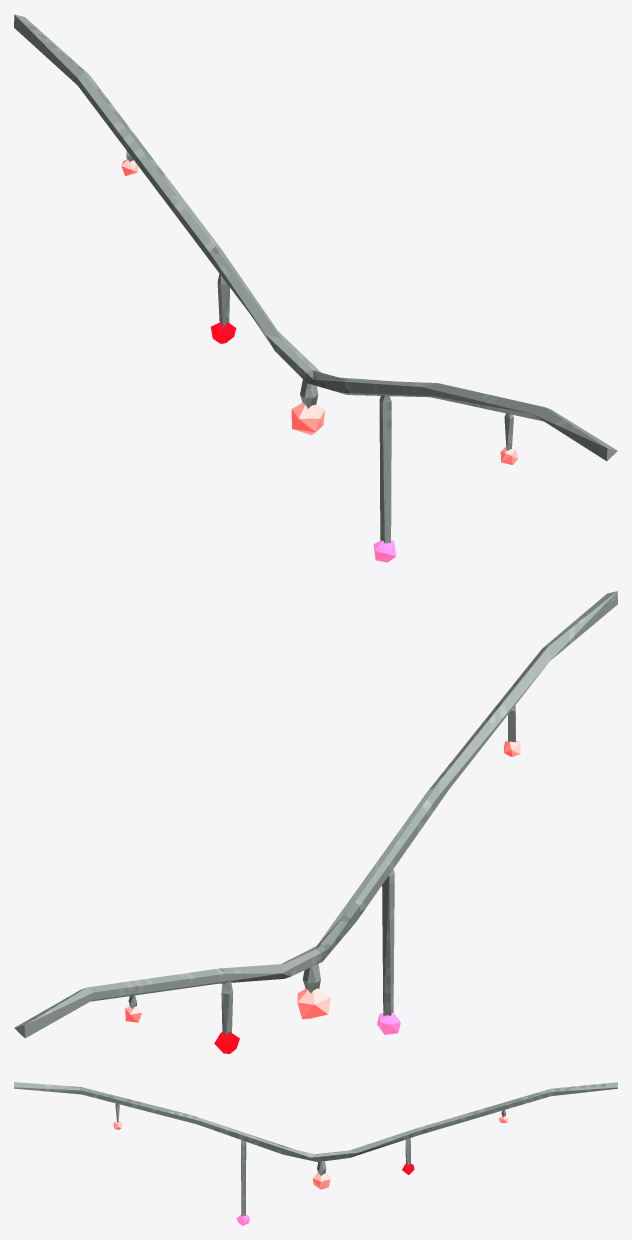
The model's file is Prova_Luce_5.fbx.
3 views of the same model, one above another, from view 1: azimuth 30°, elevation 25°; view 2: azimuth 150°, elevation 25°; view 3: azimuth 270°, elevation 25° (orthographic). The views are drawn at different scales.
Visible parts, largest first — view 1: Cylinder.005; view 2: Cylinder.005; view 3: Cylinder.005.
Part boxes in pixels (bbox=[...]): Cylinder.005: bbox=[14, 14, 617, 562]; Cylinder.005: bbox=[14, 591, 617, 1053]; Cylinder.005: bbox=[14, 1082, 617, 1225].
Bounding box in the file's own units: 0.3648 × 3.07 × 11.79.
Materials: 4 (1 with a texture image).
